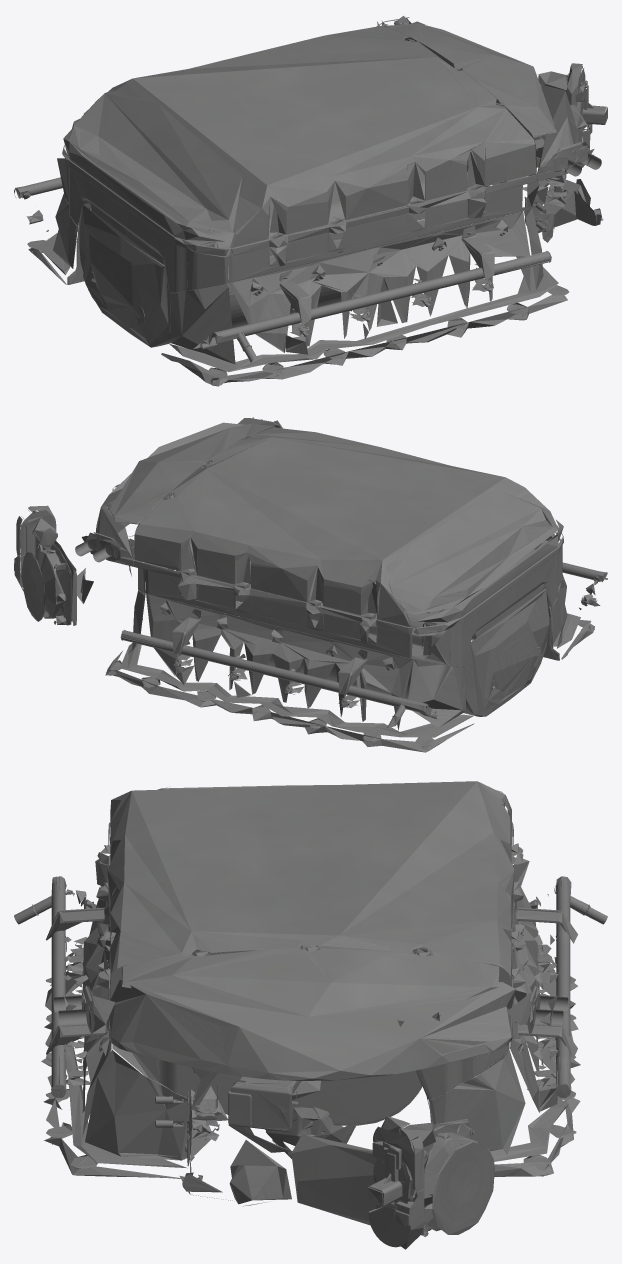
The model's file is engineComponent_supercharger_a01.glb.
The picture shows the model from 3 angles, top to bottom: view 1: azimuth 30°, elevation 25°; view 2: azimuth 150°, elevation 25°; view 3: azimuth 270°, elevation 25°; orthographic projection. The views are drawn at different scales.
Visible parts, largest first — view 1: geometry_0; view 2: geometry_0; view 3: geometry_0.
Boxes of the visible parts, box(x1,y1,x2,y2) form: geometry_0: box(14, 16, 607, 386); geometry_0: box(14, 417, 607, 752); geometry_0: box(14, 781, 607, 1249).
Size of the model in its own units: 0.42 by 0.1688 by 0.32.
Materials: 1 (1 with a texture image).
